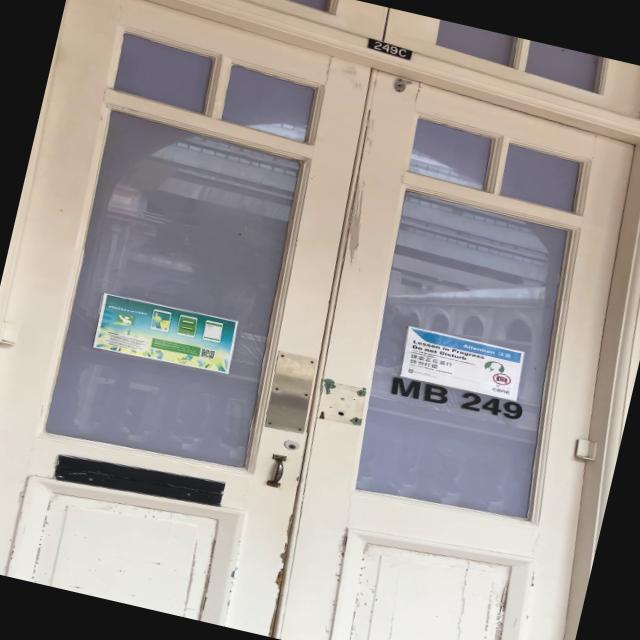room249c: (360, 31, 416, 63)
room249cWindow: (384, 371, 530, 426)
